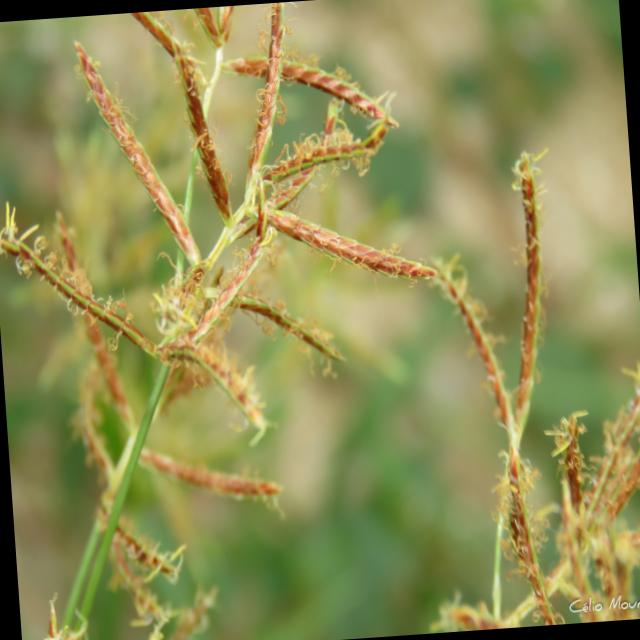cyperus: (0, 0, 456, 640), (413, 142, 640, 632)
